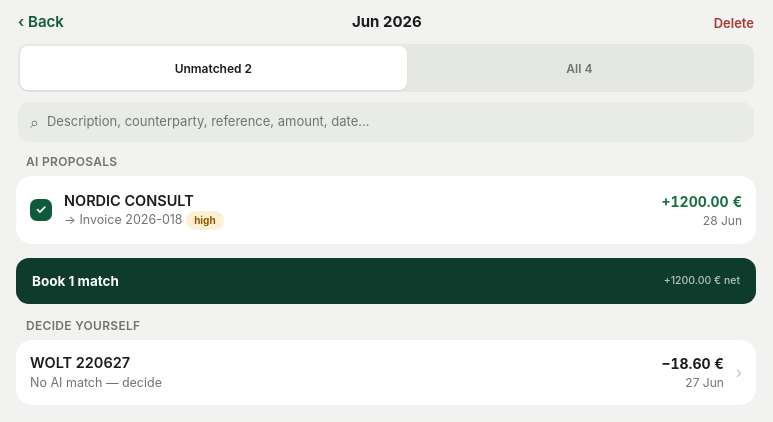
Test: StatementScreen booking › surfaces a partial booking failure (staged vs activated) without offering Undo, and refetches
Check: the checkbox named "select match invoice 2026-018" is shown, box [19,188,63,232]
Click the button "Book 1 match +1200.00 € net" at (50, 281), box [16,258,756,304]
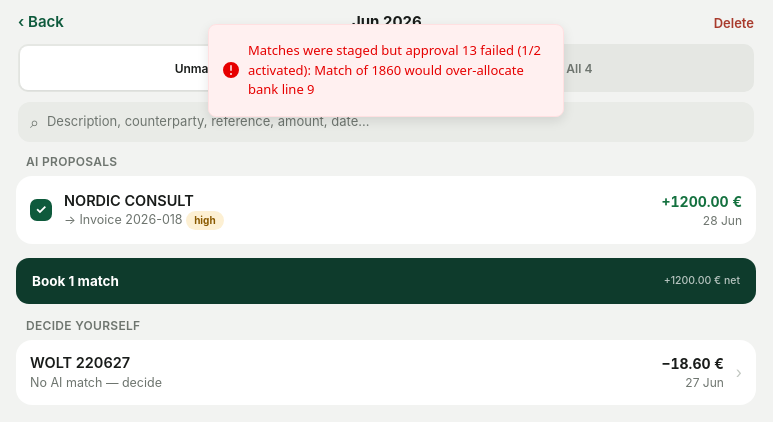
Check: the text "approval 13 failed (1/2 activated): Match of 1860 would over-allocate bank line 9" is shown, box [248,41,541,98]
